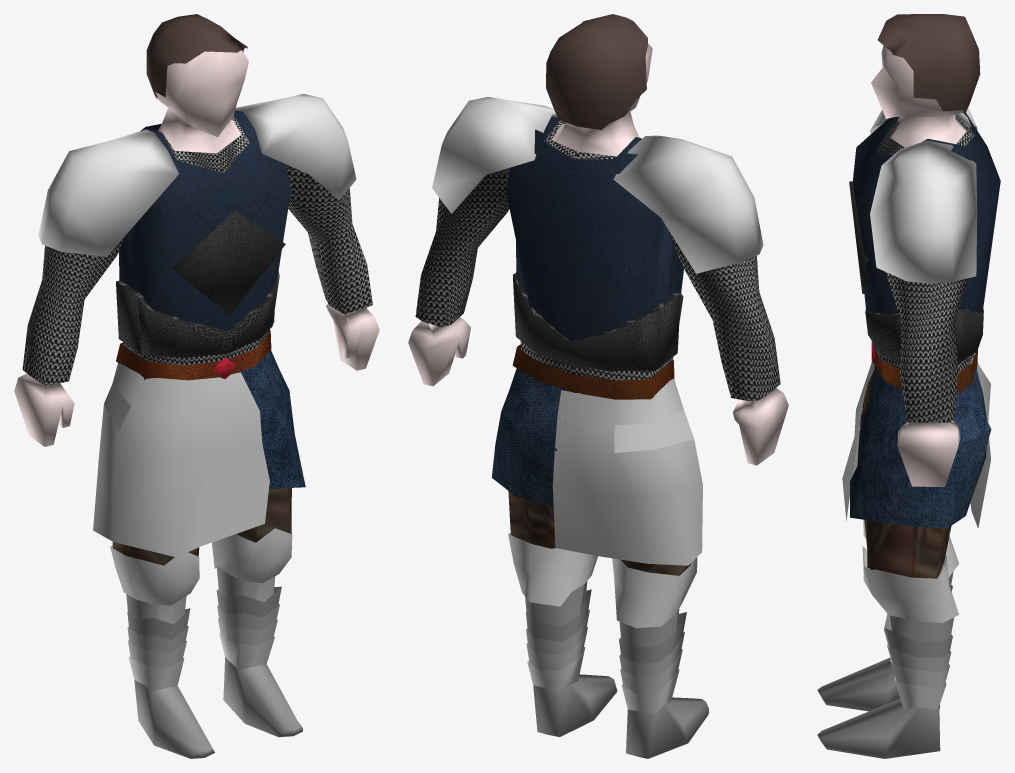
File: HeynrickFinal.fbx
3 views of the same model, side by side, from view 1: azimuth 30°, elevation 25°; view 2: azimuth 150°, elevation 25°; view 3: azimuth 270°, elevation 25° (orthographic). The views are drawn at different scales.
Parts seen in each view (by area): view 1: Skirt, Torso Armor.002, Torso Armor.003, Torso Armor, Body, Boots, Knees, Torso Armor.001, Torso Armor.D, SkirtR, Hair, Belt (+5 smaller); view 2: Torso Armor.003, Skirt, Torso Armor.002, Torso Armor, Boots, Hair, Body, Knees, Torso Armor.001, SkirtR, Belt, Thighs (+4 smaller); view 3: Torso Armor.002, SkirtR, Torso Armor, Boots, Body, Torso Armor.003, Hair, Thighs, Knees, Torso Armor.001, Skirt, Boots.001 (+5 smaller).
Boxes of the visible parts, x1,y1,x2,y2 form: Skirt: (93, 363, 269, 557); Torso Armor.002: (38, 94, 356, 256); Torso Armor.003: (119, 110, 291, 331); Torso Armor: (22, 115, 372, 385); Body: (14, 50, 379, 542); Boots: (126, 565, 302, 758); Knees: (110, 528, 292, 605); Torso Armor.001: (116, 271, 279, 357); Torso Armor.D: (173, 209, 285, 315); SkirtR: (238, 350, 305, 488); Hair: (146, 14, 247, 99); Belt: (116, 330, 271, 380); Torso Armor.003: (506, 116, 683, 349); Skirt: (552, 378, 702, 565); Torso Armor.002: (432, 97, 763, 273); Torso Armor: (415, 120, 780, 400); Boots: (525, 581, 708, 758); Hair: (546, 14, 647, 129); Body: (408, 43, 788, 465); Knees: (508, 533, 697, 628); Torso Armor.001: (512, 272, 683, 371); SkirtR: (492, 368, 565, 505); Belt: (512, 344, 674, 399); Thighs: (508, 389, 690, 575); Torso Armor.002: (870, 107, 977, 283); SkirtR: (850, 368, 991, 528); Torso Armor: (872, 114, 974, 422); Boots: (817, 571, 953, 758); Body: (871, 45, 973, 578); Torso Armor.003: (853, 112, 1000, 343); Hair: (877, 14, 980, 113); Thighs: (860, 355, 976, 578); Knees: (862, 519, 958, 623); Torso Armor.001: (865, 308, 983, 364); Skirt: (842, 354, 990, 528); Boots.001: (884, 585, 952, 658).
Bounding box in the file's own units: 674 × 1320 × 309.
